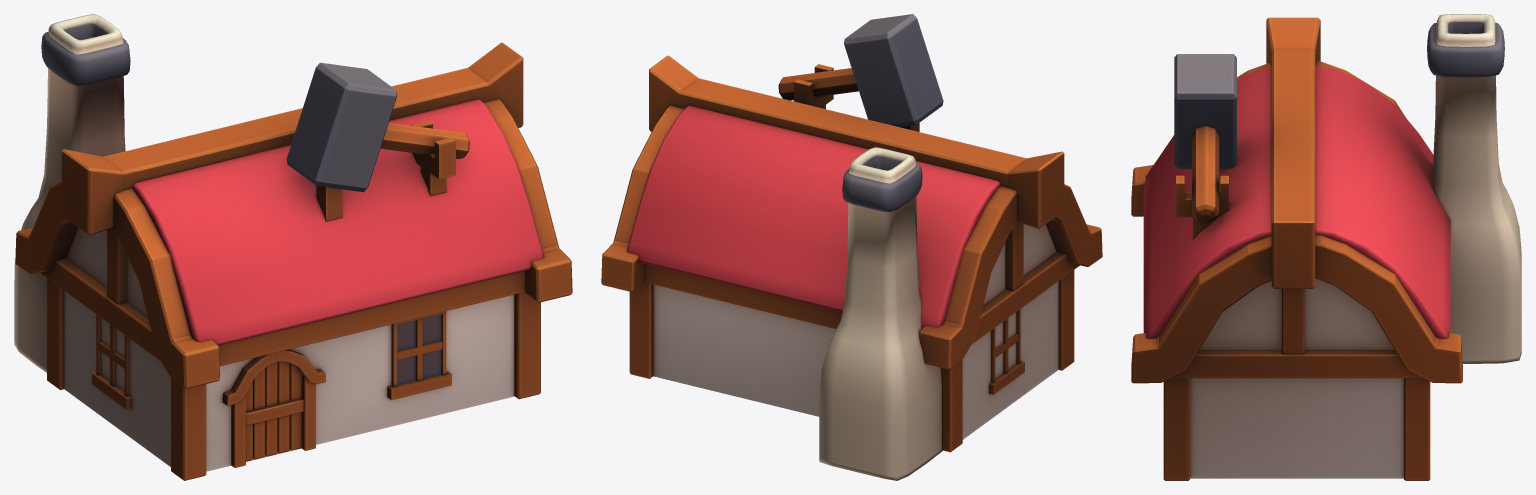
Rendered from Blacksmith.fbx.
The picture shows the model from 3 angles, left to right: view 1: azimuth 30°, elevation 25°; view 2: azimuth 150°, elevation 25°; view 3: azimuth 270°, elevation 25°; orthographic projection. The views are drawn at different scales.
Parts seen in each view (by area): view 1: Cube.023; view 2: Cube.023; view 3: Cube.023.
Part boxes in pixels (x1,y1,x2,y2): Cube.023: (14, 14, 572, 480); Cube.023: (601, 14, 1102, 480); Cube.023: (1131, 14, 1521, 480).
Size of the model in its own units: 242 by 185 by 192.
1 material, 1 textured.
